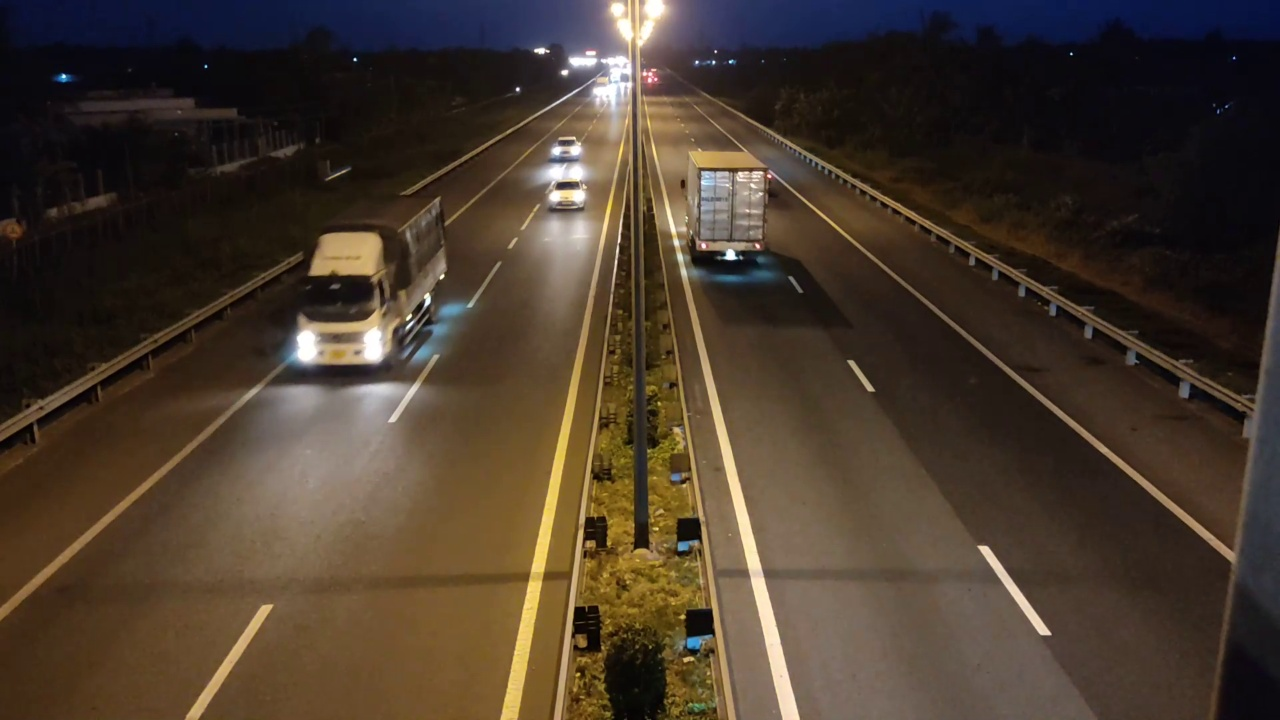car: (545, 177, 587, 211), (549, 135, 582, 164)
truck: (291, 192, 449, 373), (683, 149, 771, 263)
